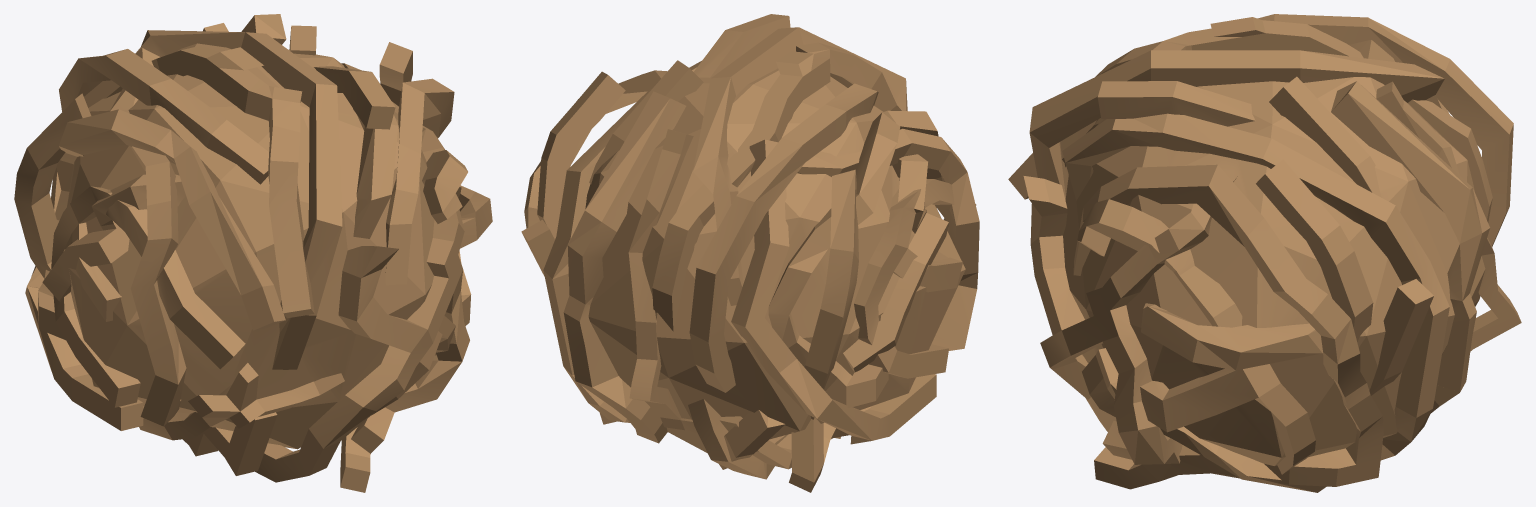
Rendered from Tumbleweed.fbx.
3 renders of one model, left to right at view 1: azimuth 30°, elevation 25°; view 2: azimuth 150°, elevation 25°; view 3: azimuth 270°, elevation 25°, orthographic. The views are drawn at different scales.
Visible parts, largest first — view 1: Tumbleweed; view 2: Tumbleweed; view 3: Tumbleweed.
Boxes of the visible parts, x1,y1,x2,y2 form: Tumbleweed: (14, 14, 492, 492); Tumbleweed: (521, 14, 979, 492); Tumbleweed: (1008, 14, 1521, 492).
Size of the model in its own units: 107 by 107 by 114.
